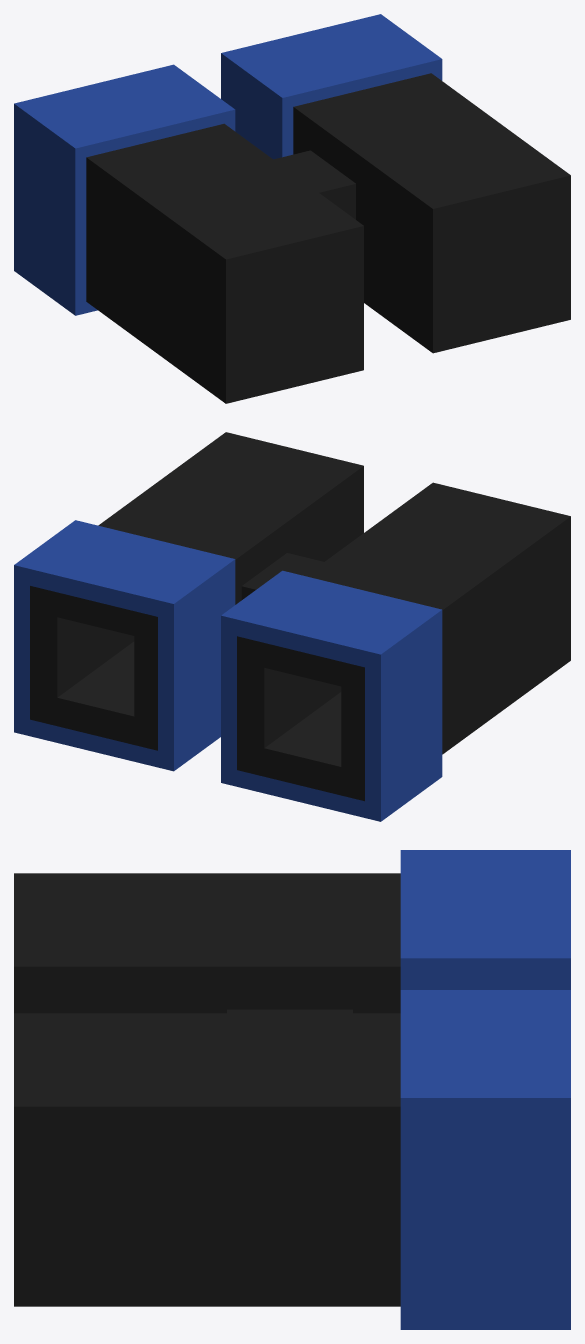
The model's file is RocketLauncherTurret.dae.
3 views of the same model, one above another, from view 1: azimuth 30°, elevation 25°; view 2: azimuth 150°, elevation 25°; view 3: azimuth 270°, elevation 25° (orthographic). The views are drawn at different scales.
Parts seen in each view (by area): view 1: Box_5, Box_9; view 2: Box_5, Box_9; view 3: Box_5, Box_9.
Part boxes in pixels (bbox=[...]): Box_5: bbox=[86, 73, 570, 403]; Box_9: bbox=[14, 14, 442, 315]; Box_5: bbox=[30, 432, 570, 801]; Box_9: bbox=[14, 520, 442, 821]; Box_5: bbox=[14, 873, 400, 1306]; Box_9: bbox=[400, 850, 570, 1329].
Size of the model in its own units: 1.06 by 0.4634 by 1.01.
